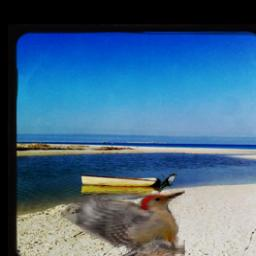Cuckoo: (155, 175, 179, 197)
Woodpecker: (59, 189, 186, 256)
